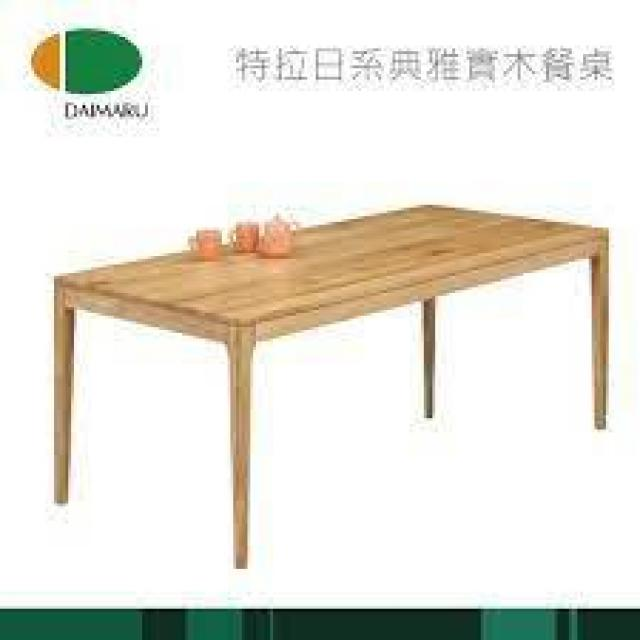table: (27, 138, 619, 582)
